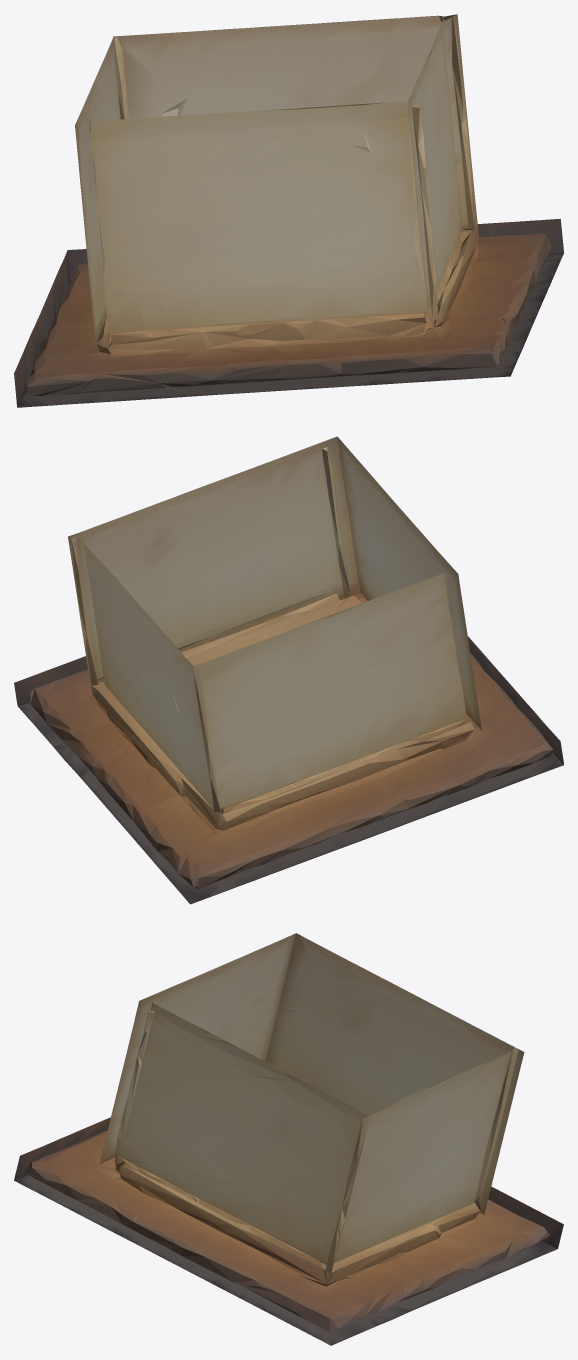
Rendered from step3_after_kpm_original_00.glb.
3 renders of one model, top to bottom at view 1: azimuth 30°, elevation 25°; view 2: azimuth 150°, elevation 25°; view 3: azimuth 270°, elevation 25°, orthographic. The views are drawn at different scales.
Parts seen in each view (by area): view 1: world; view 2: world; view 3: world.
Boxes of the visible parts, <box> form: world: <box>14,14,563,407</box>; world: <box>14,436,563,904</box>; world: <box>14,933,563,1345</box>.
Bounding box in the file's own units: 0.5232 × 0.2919 × 0.5177.
